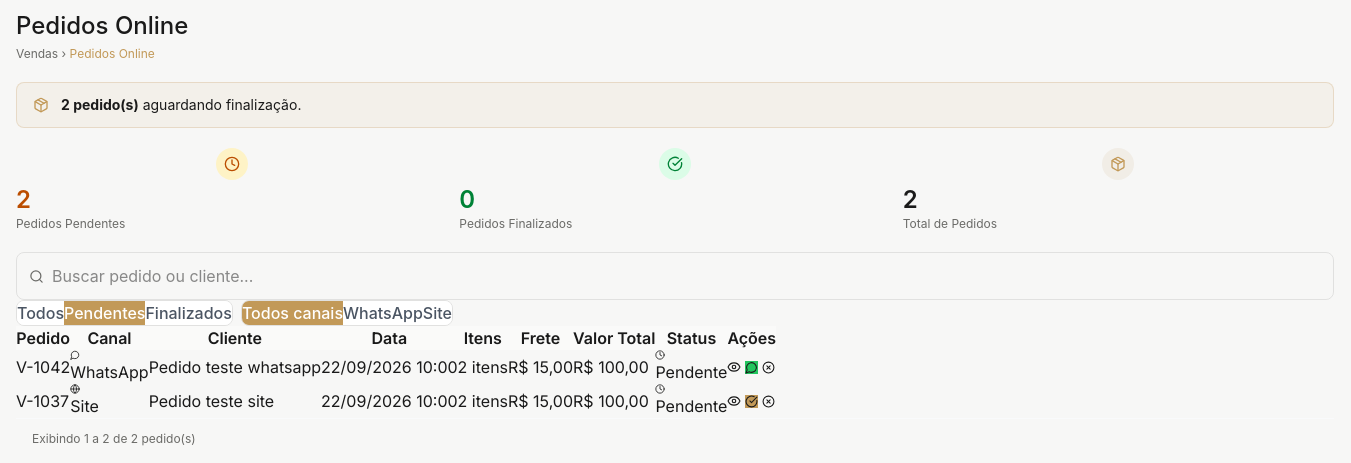
Scenario: OnlineOrders › lista apenas pedidos online do backend e combina filtros
Expected: the row "Pedido teste whatsapp" is shown, [16, 350, 776, 384]
Expected: the row "Pedido teste whatsapp" shows "Pendente", [656, 362, 727, 382]
Click the button "Site" at (437, 313), box [423, 301, 452, 325]
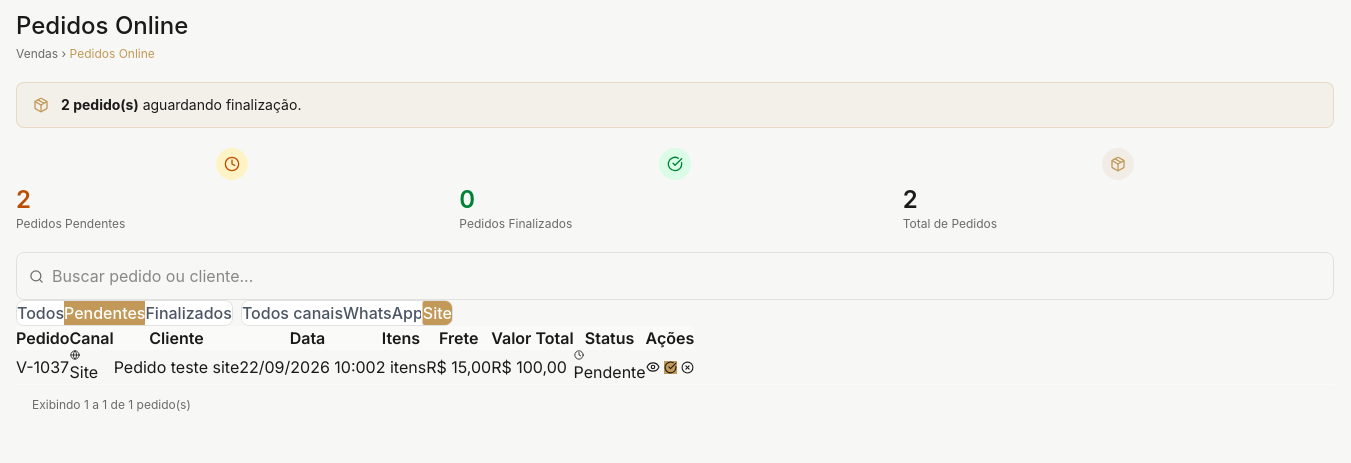
Expected: the row "Pedido teste site" is shown, [16, 350, 694, 384]
Result: the text "Pedido teste whatsapp" is gone
Type "ausente" into the field with placeholder "Buscar pedido ou cliente..." at (176, 276), box [52, 264, 300, 288]
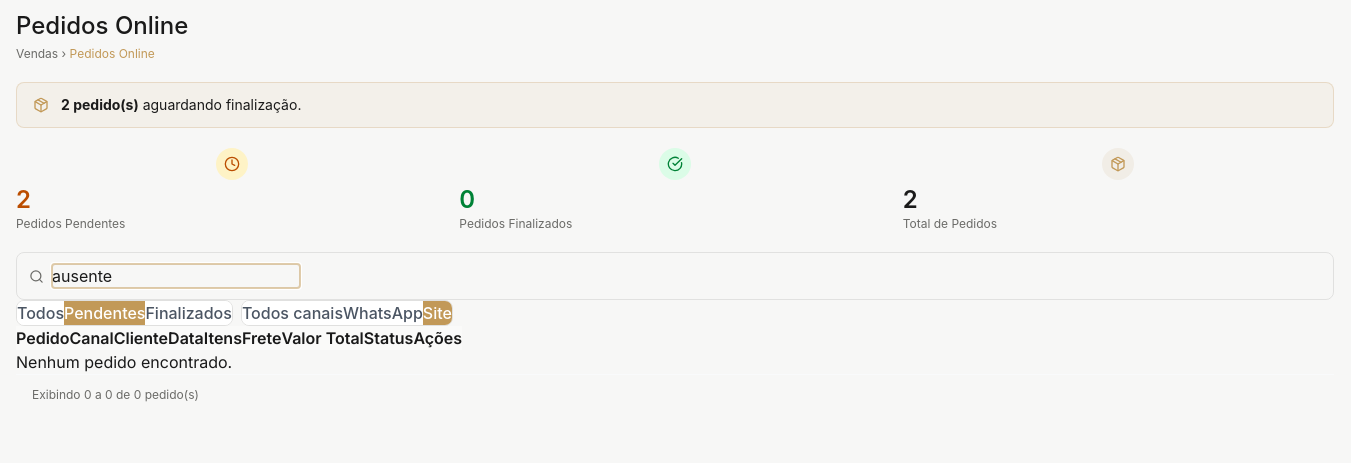
Result: the text "Nenhum pedido encontrado." is shown at [16, 350, 462, 374]
